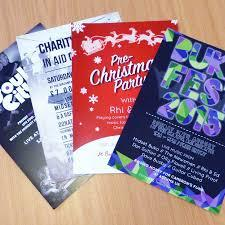Printing industry: (3, 5, 225, 225)
